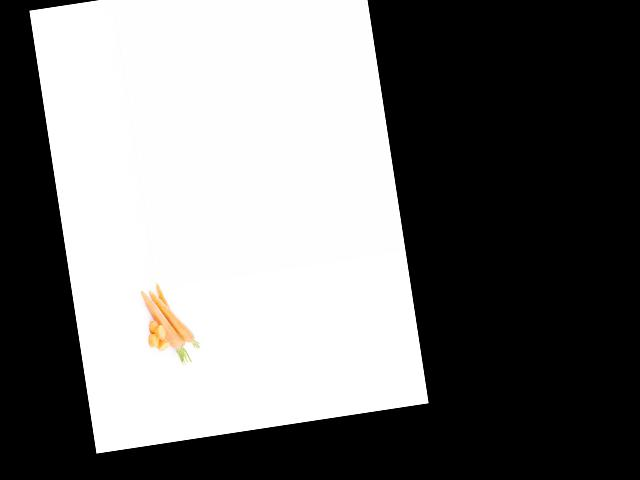carrot: (140, 285, 184, 358)
